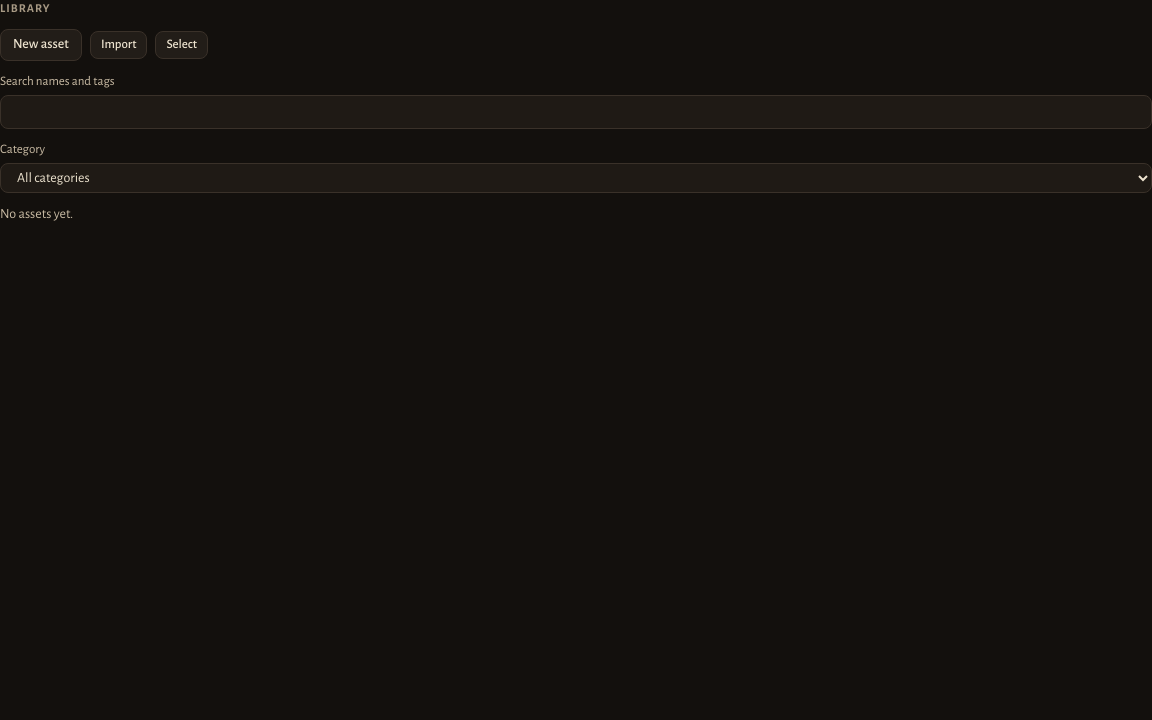
Test case: creating and editing (specs/05-assets-and-images.md §4, §5, §6) › asks for an image and a name before sending
The image size is (1152, 720).
Click the button "New asset" at (41, 45), box [0,29,82,61]
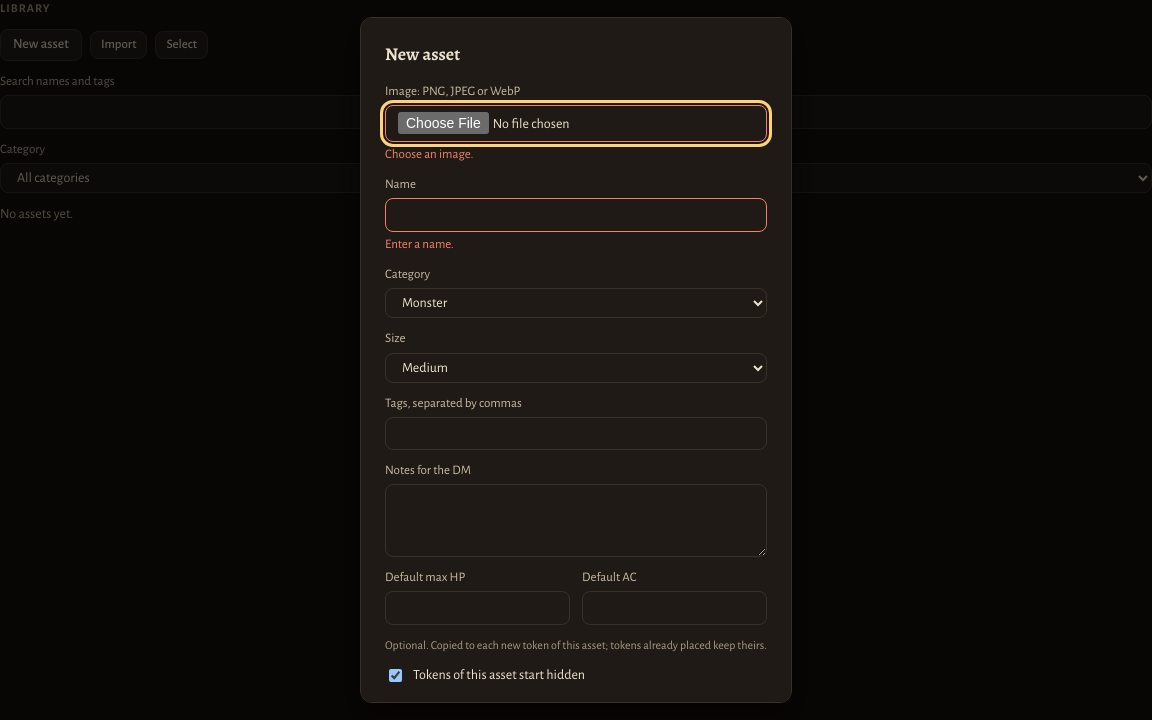
Check: the dialog shows "Choose an image.", box [385,148,473,161]
Check: the dialog shows "Enter a name.", box [385,238,454,251]
